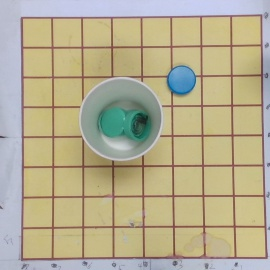blue: (167, 65, 196, 93)
cup_green: (78, 77, 165, 162)
